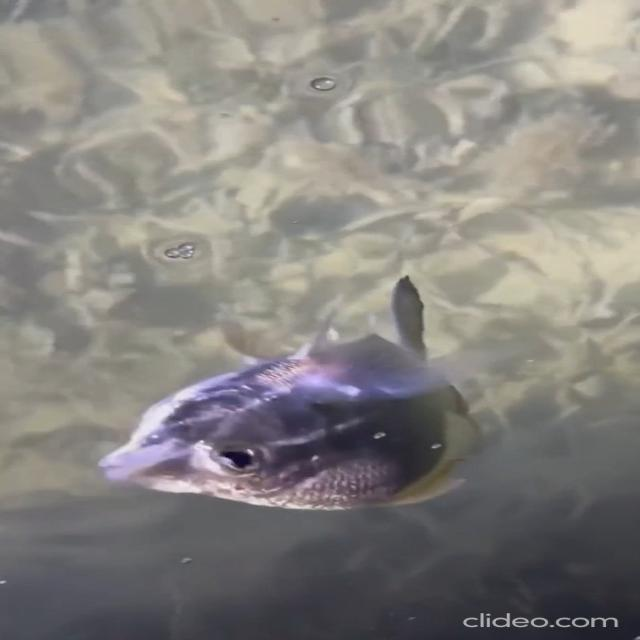fish: (90, 270, 552, 528)
